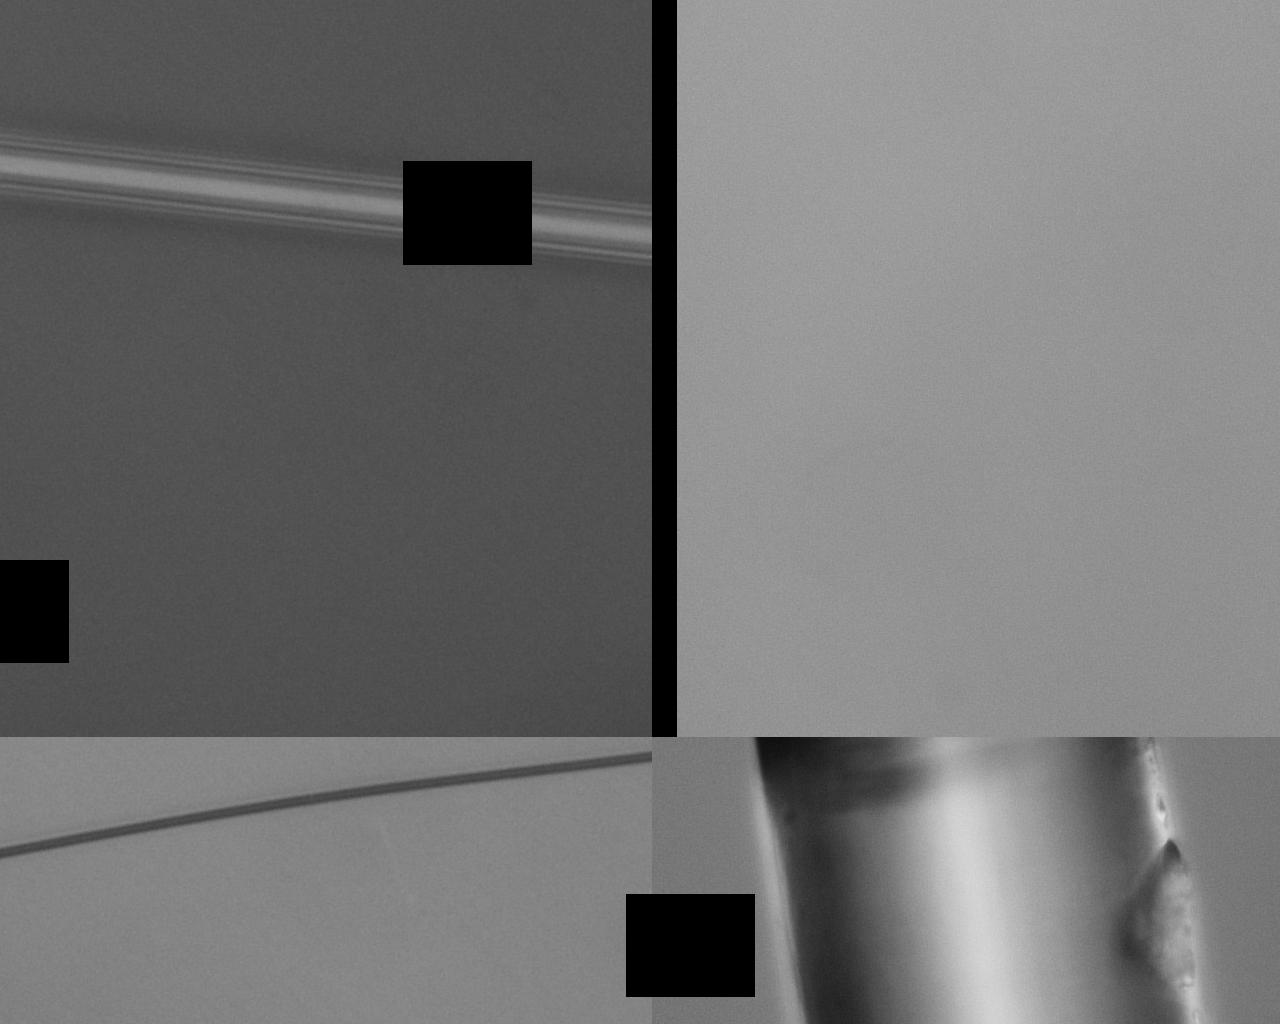fiber: (141, 0, 523, 532), (523, 0, 878, 532), (1054, 814, 1280, 1024)
